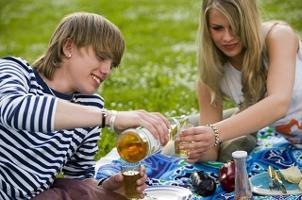person: (2, 12, 171, 200)
